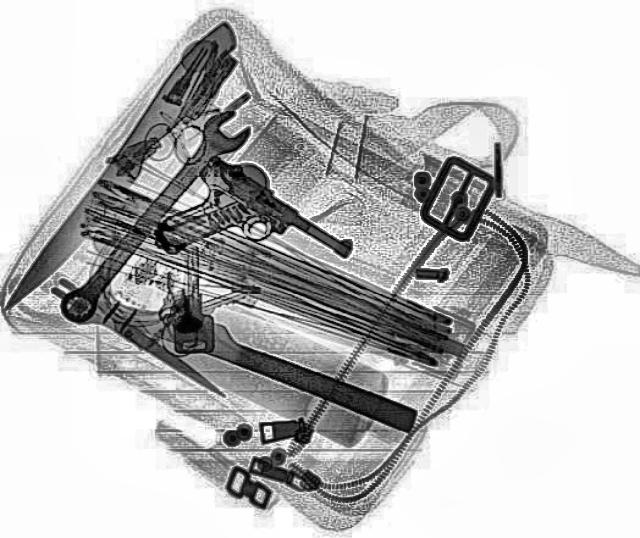Gun: (134, 154, 358, 318)
Knife: (0, 18, 244, 306), (74, 290, 418, 430), (47, 276, 233, 405)
Wrench: (42, 104, 258, 324)
